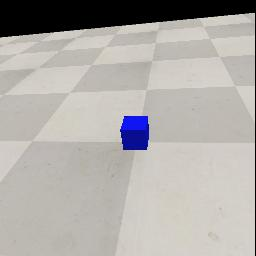box: (120, 116, 149, 150)
